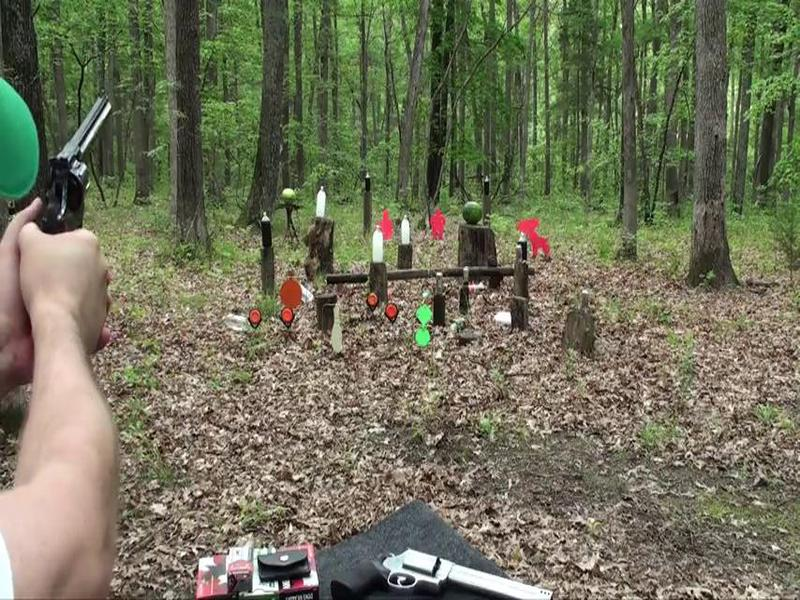Revolver: (29, 81, 131, 257)
